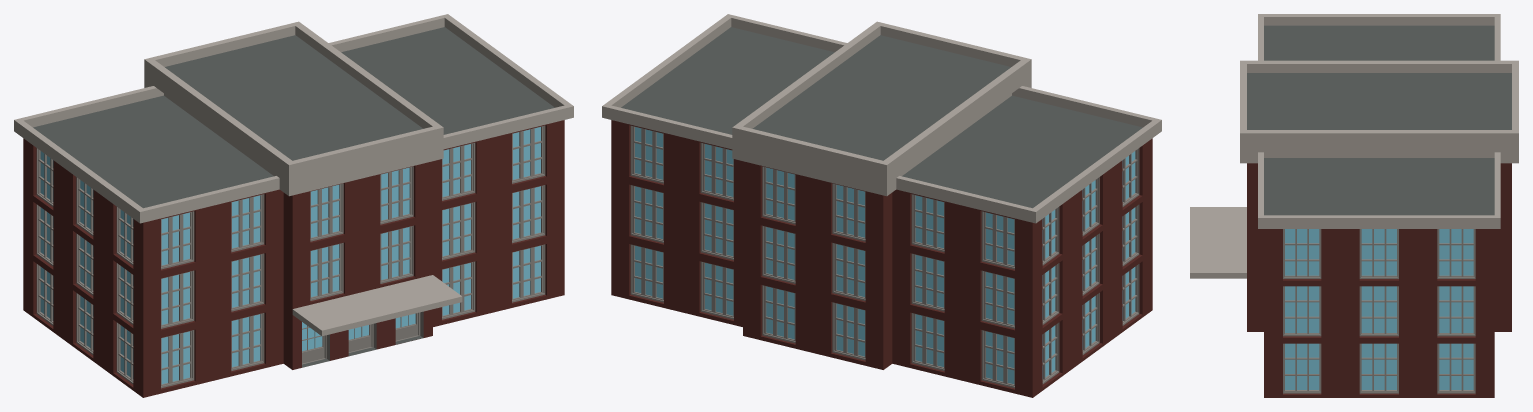
The model's file is SM_house_40.gltf.
3 renders of one model, left to right at view 1: azimuth 30°, elevation 25°; view 2: azimuth 150°, elevation 25°; view 3: azimuth 270°, elevation 25°, orthographic. The views are drawn at different scales.
Visible parts, largest first — view 1: SM_house_40; view 2: SM_house_40; view 3: SM_house_40.
Boxes of the visible parts, bbox=[...] form: SM_house_40: bbox=[14, 14, 573, 397]; SM_house_40: bbox=[602, 14, 1161, 397]; SM_house_40: bbox=[1190, 14, 1518, 397].
Bounding box in the file's own units: 4.65 × 2.14 × 3.17.
